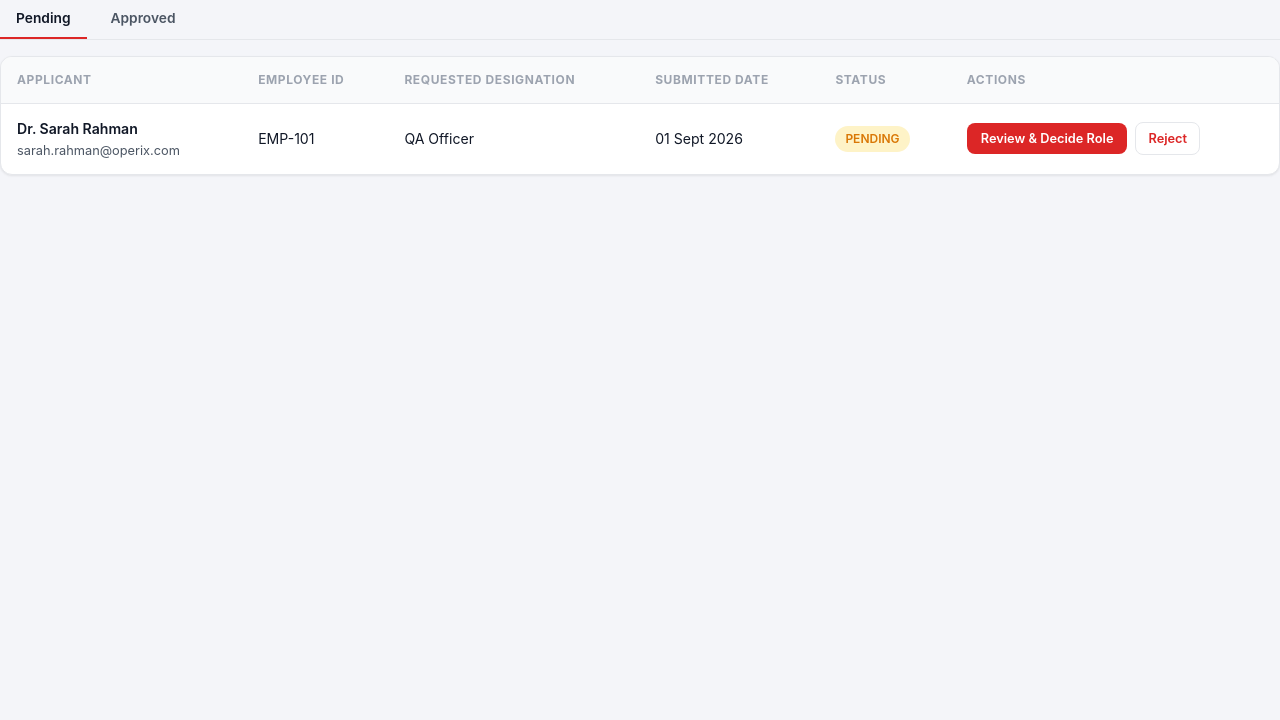
Test: RegistrationRequests › opens approval dialog when review button is clicked
What coordinates should you click on to do the following:
click the button "Review & Decide Role"
I would click on:
 (1047, 139)
Its box is top-left (967, 123), bottom-right (1128, 154).
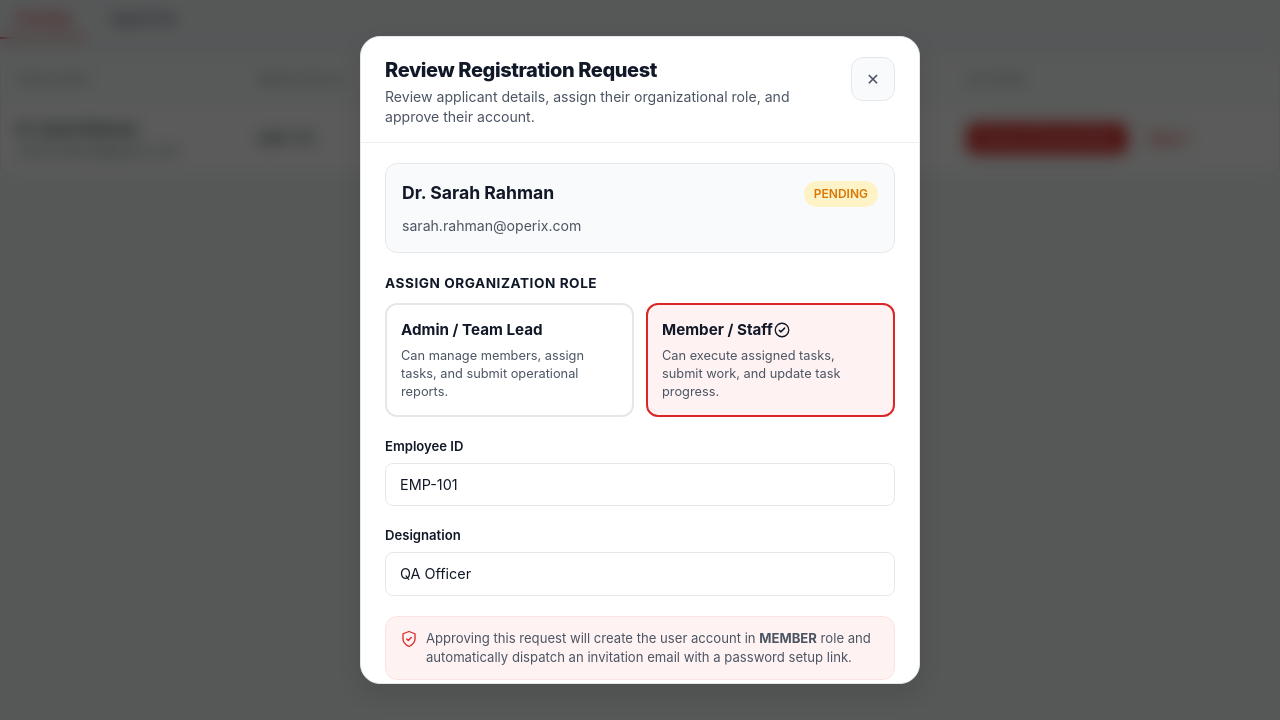
Now the text "Assign Organization Role" is shown, box top-left (385, 275), bottom-right (597, 291)
